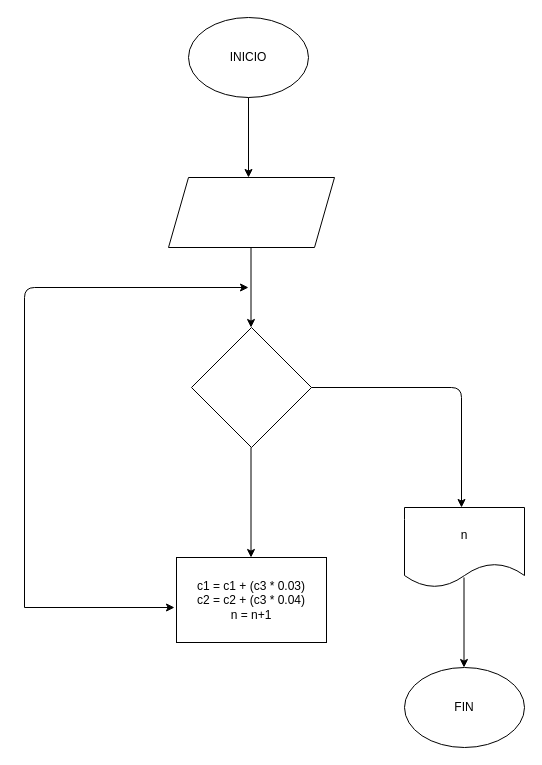
This 542x765 diagram has some shape labels left out. Each missing label, with the centre of its shape:
"c1 + c2 < c3" goes at pixel 251 387.
"c1 = 15000 c2 = 20000 c3 = 40000" goes at pixel 251 212.
